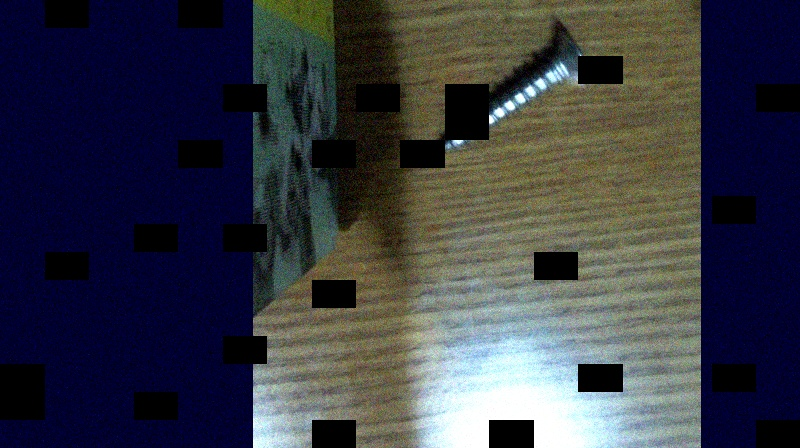S001: (429, 14, 601, 155)
